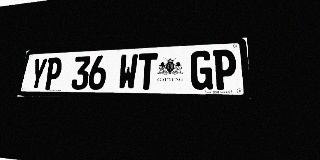3: (70, 56, 91, 90)
6: (87, 55, 108, 90)
G: (190, 50, 213, 90)
P: (213, 49, 237, 90), (43, 57, 63, 90)
T: (136, 53, 158, 90)
W: (117, 54, 138, 90)
Y: (28, 58, 48, 90)
